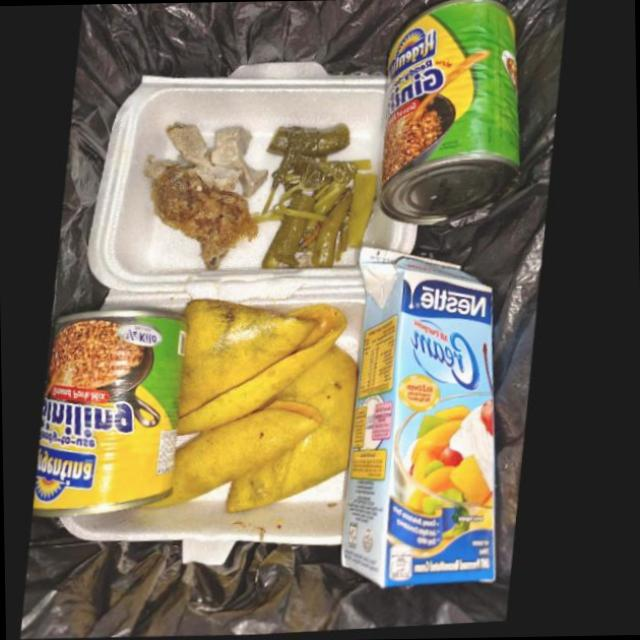nhom: (381, 0, 524, 229), (41, 310, 193, 517)
thuc_an_thua: (152, 165, 262, 272), (146, 123, 271, 199)
vo_hop_sua: (351, 250, 507, 593)
vo_rau_cu: (254, 125, 380, 271)
vo_trai_cay: (184, 306, 353, 436), (235, 347, 365, 515), (148, 402, 330, 509), (185, 300, 323, 419)
xop: (91, 64, 422, 303), (67, 472, 356, 548), (284, 287, 371, 367), (104, 291, 196, 313)
